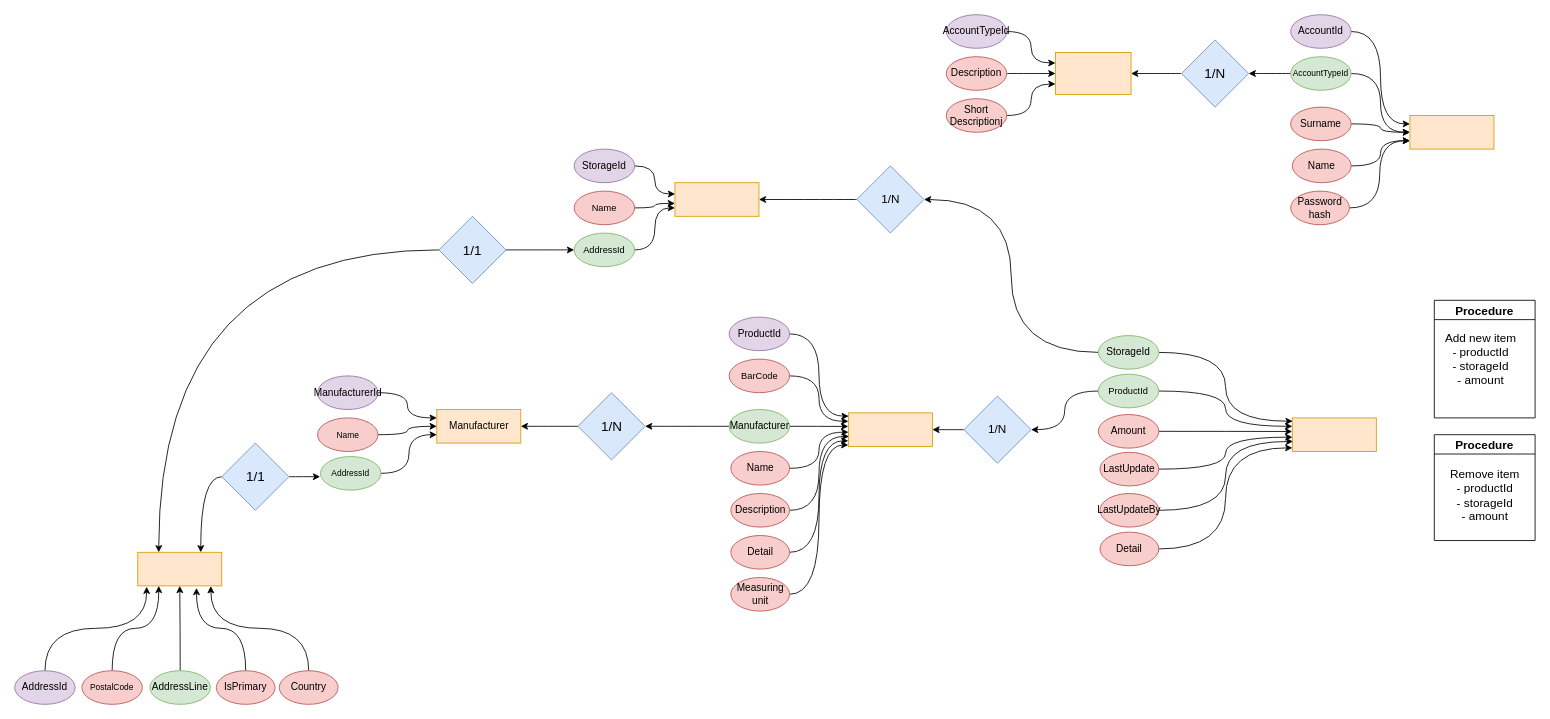
Some shapes in this 1550 by 719 pixel diagram are drawn without their labels. The centre of each missing label's shape, as x and y in pixels:
Account: point 1451,132
AccountTypes: point 1093,73
Address: point 179,568
Product: point 890,429
StateOfProduct: point 1334,434
Storage: point 716,199
